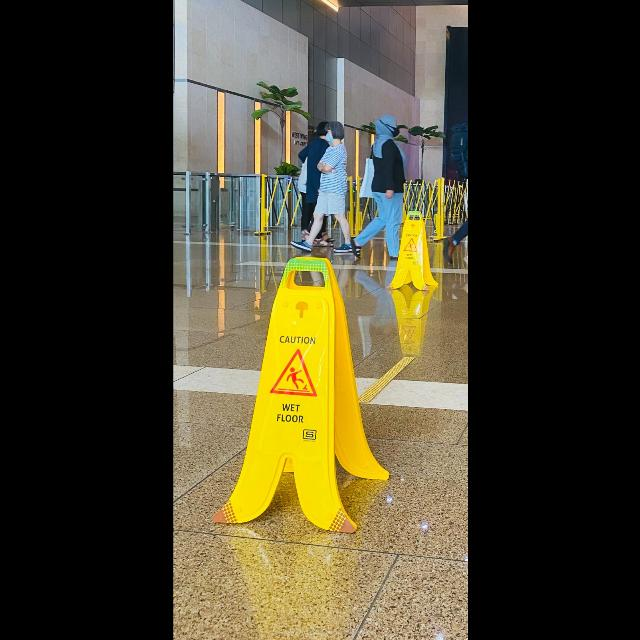tron truot: (212, 257, 388, 533), (389, 211, 437, 290)
